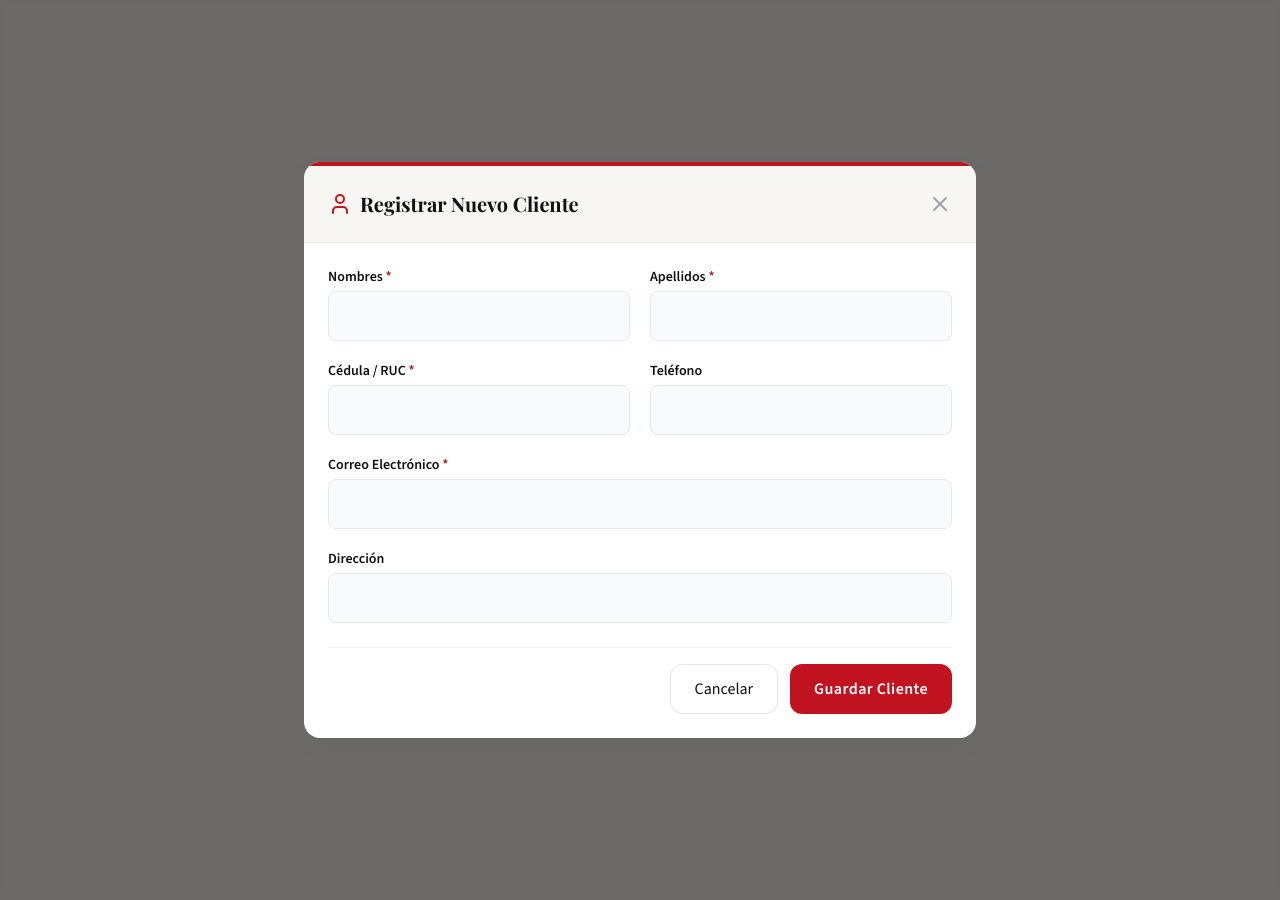
Test: ModalFormulario › rechaza un teléfono de prefijo inválido
Step 1. Type "María-José" into the field labelled "Nombres *" → (479, 316), box top-left (328, 291), bottom-right (630, 341)
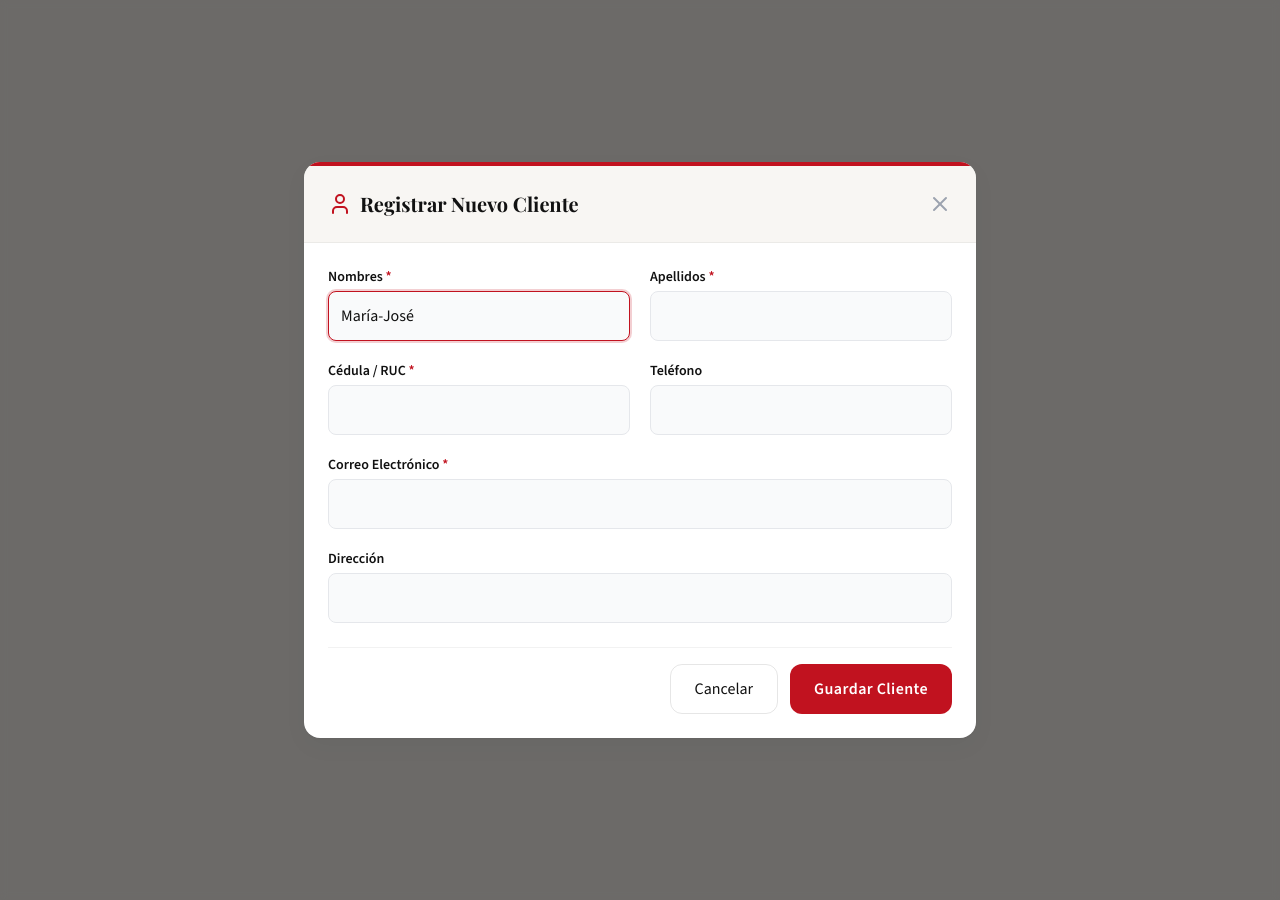
Step 2. Type "Pérez" into the field labelled "Apellidos *" → (801, 316), box top-left (650, 291), bottom-right (952, 341)
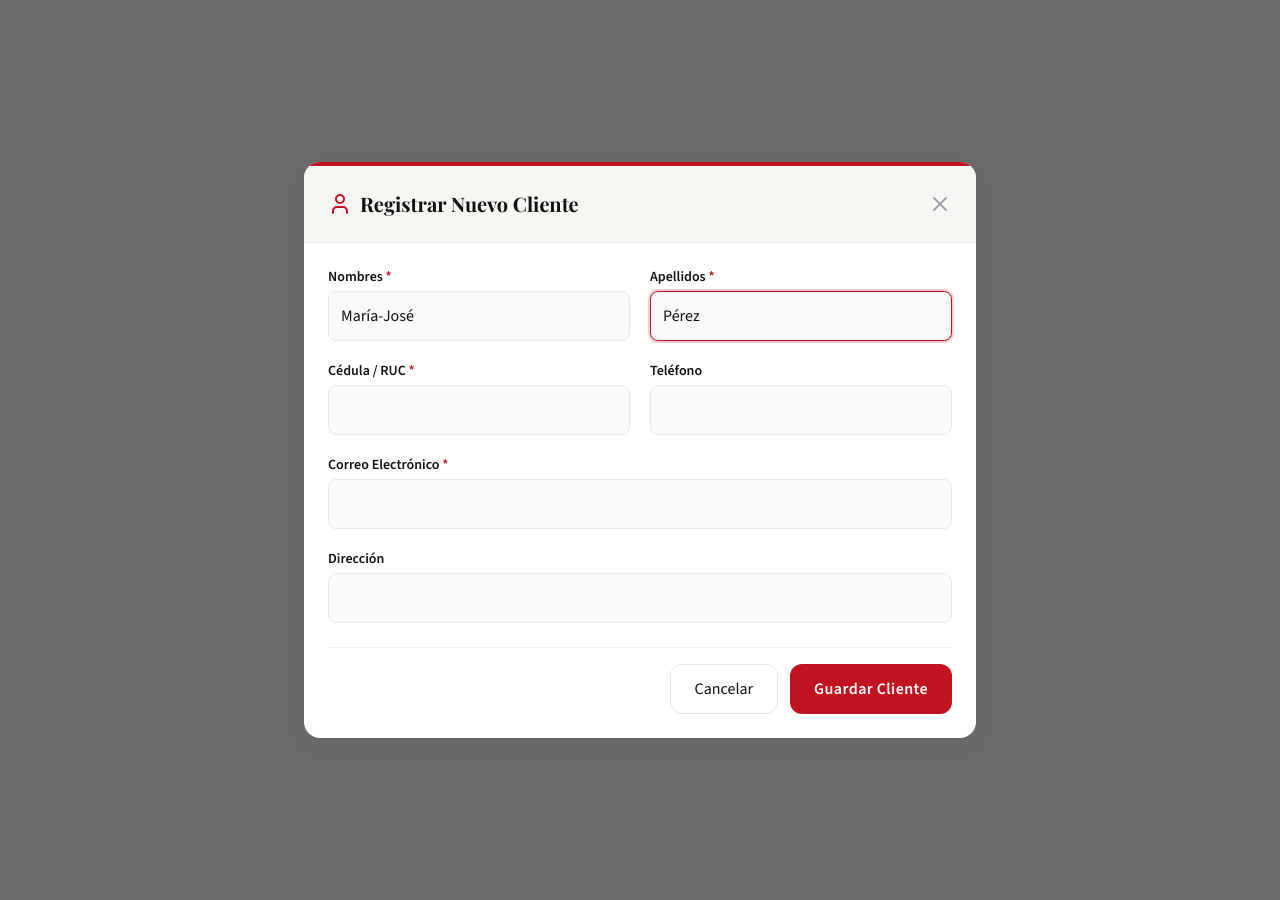
Step 3. Type "1710034065" into the field labelled "Cédula / RUC *" → (479, 410), box top-left (328, 385), bottom-right (630, 435)
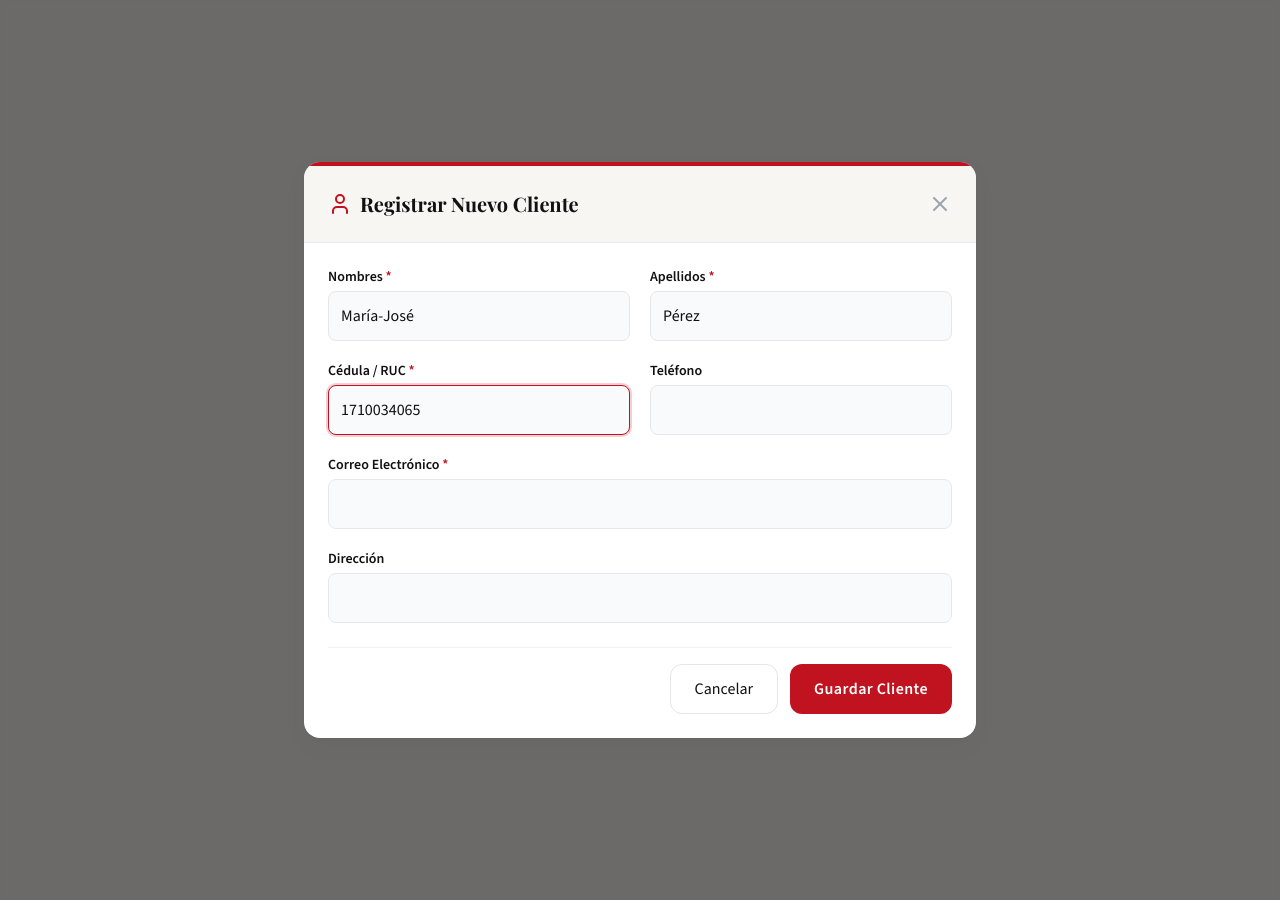
Step 4. Type "012345678" into the field labelled "Teléfono" → (801, 410), box top-left (650, 385), bottom-right (952, 435)
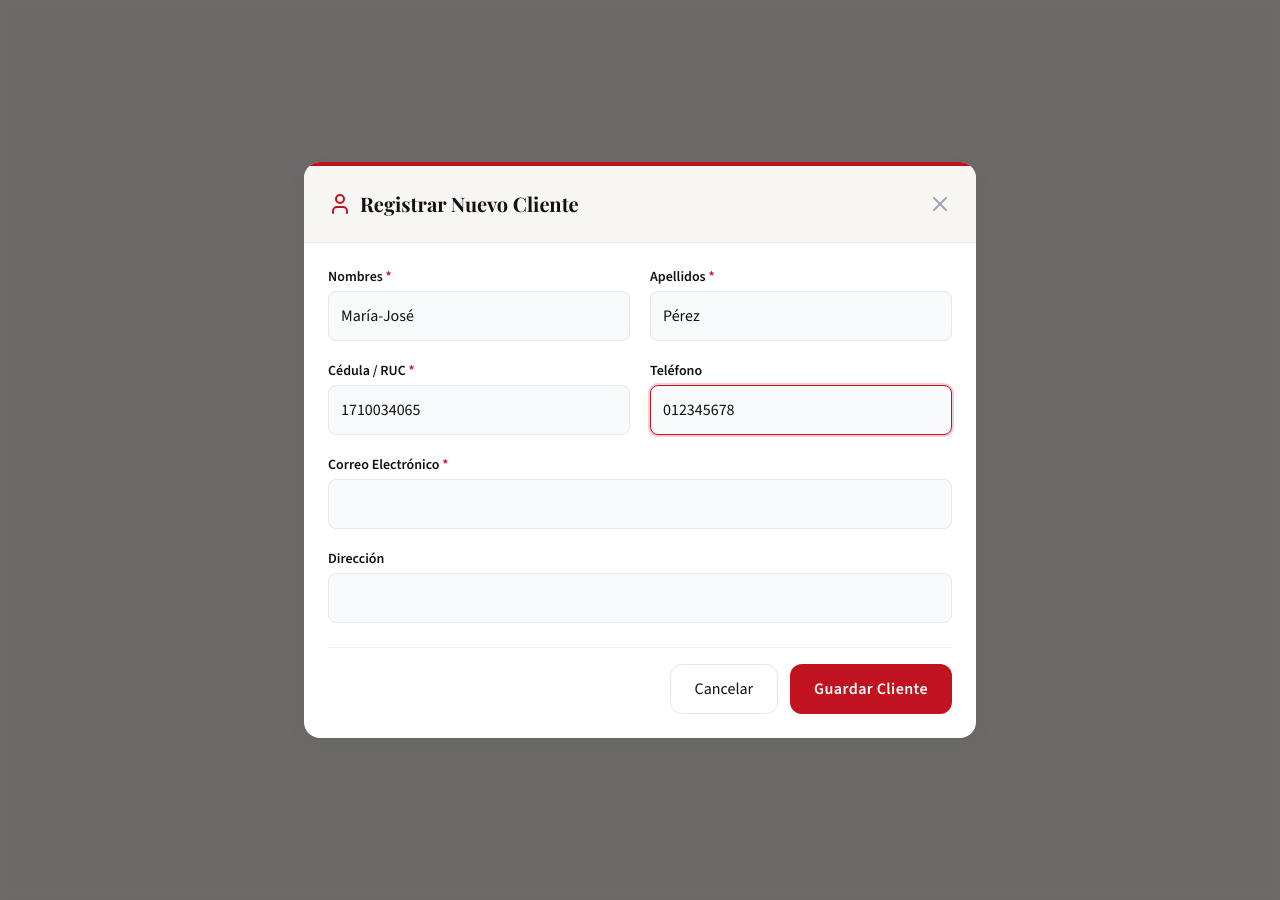
Step 5. Type "maria@correo.com" into the field labelled "Correo Electrónico *" → (640, 504), box top-left (328, 479), bottom-right (952, 529)
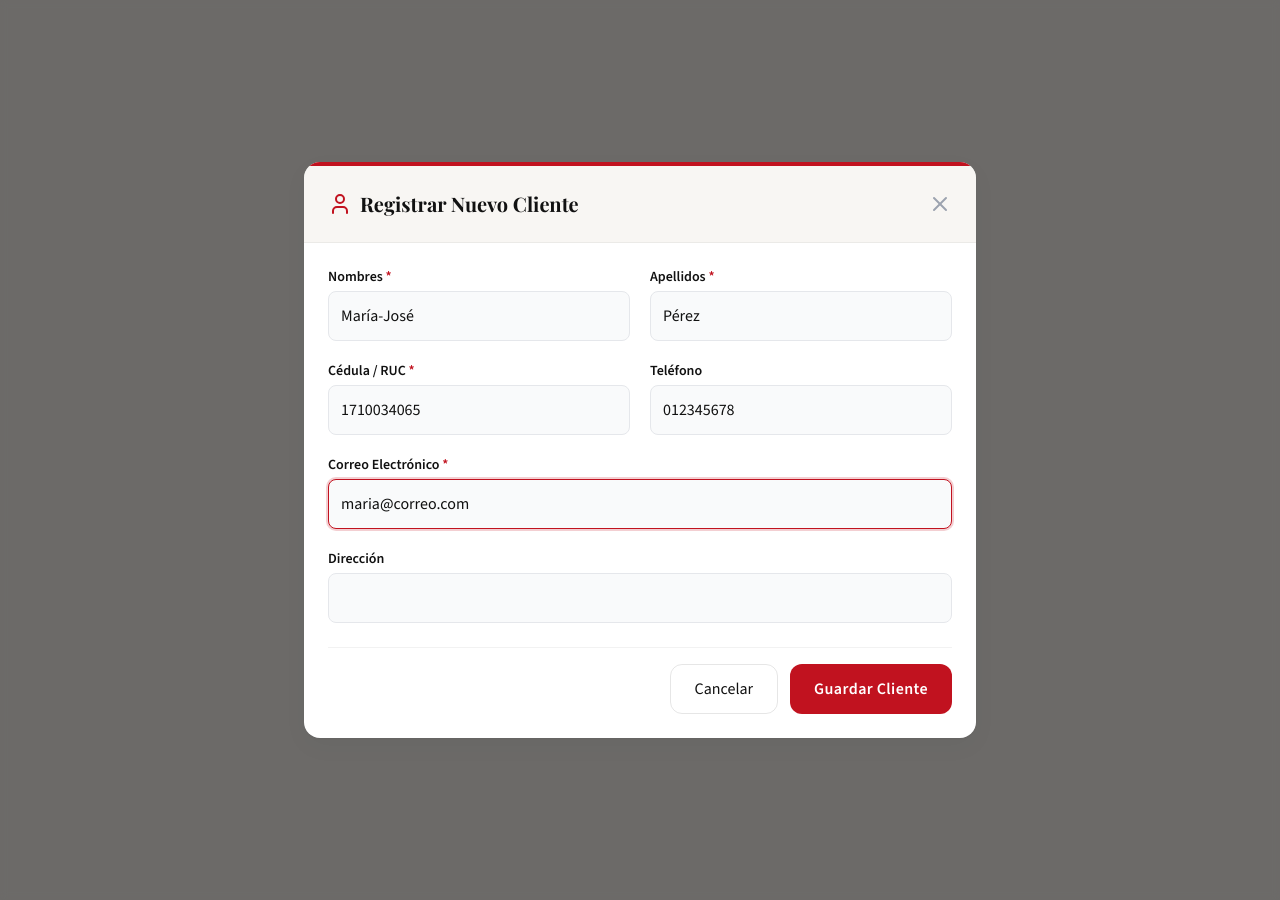
Step 6. Click the button "Guardar Cliente" → (871, 689), box top-left (790, 664), bottom-right (952, 714)
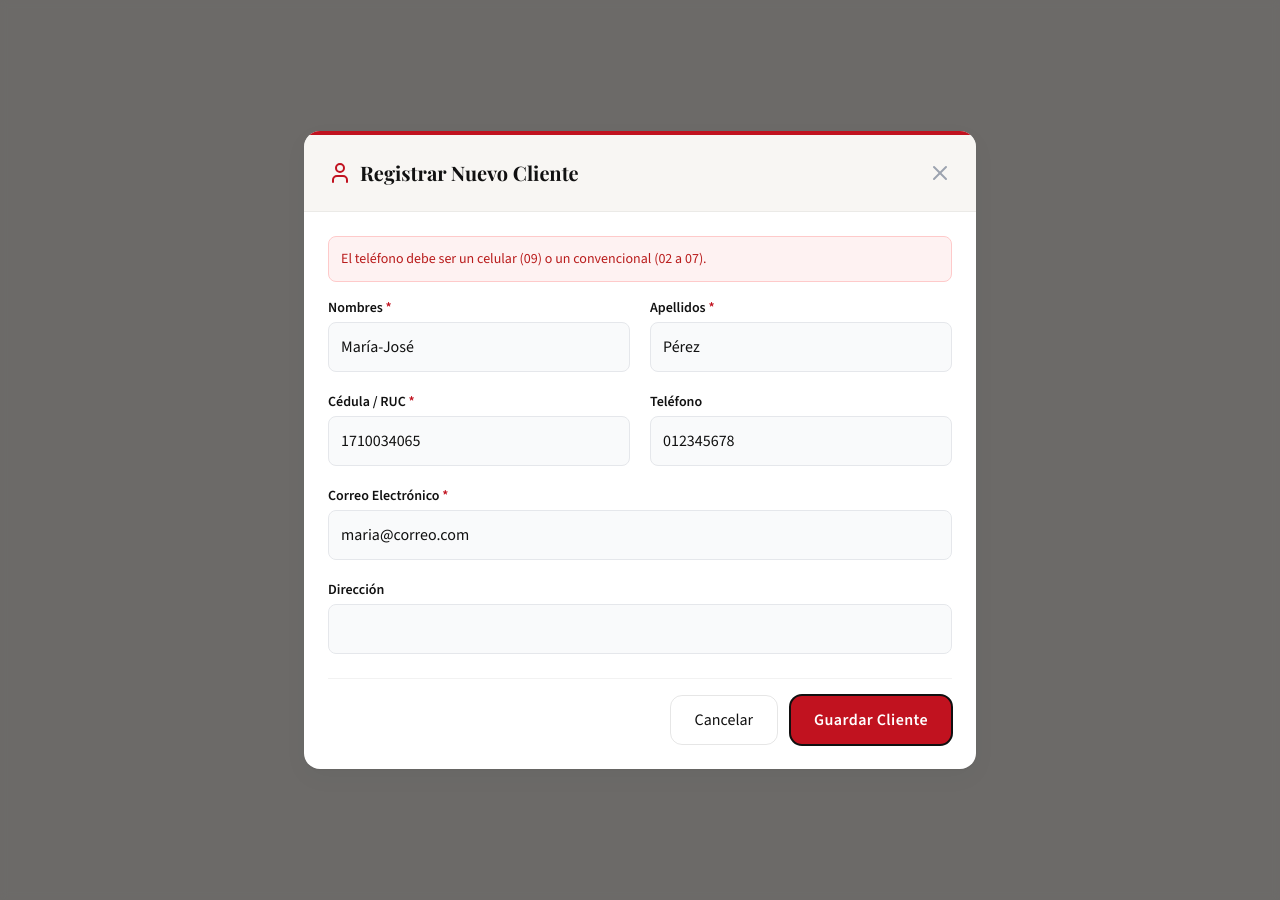
Result: the text "celular (09) o un convencional (02 a 07)" is shown at top-left (341, 249), bottom-right (707, 268)
